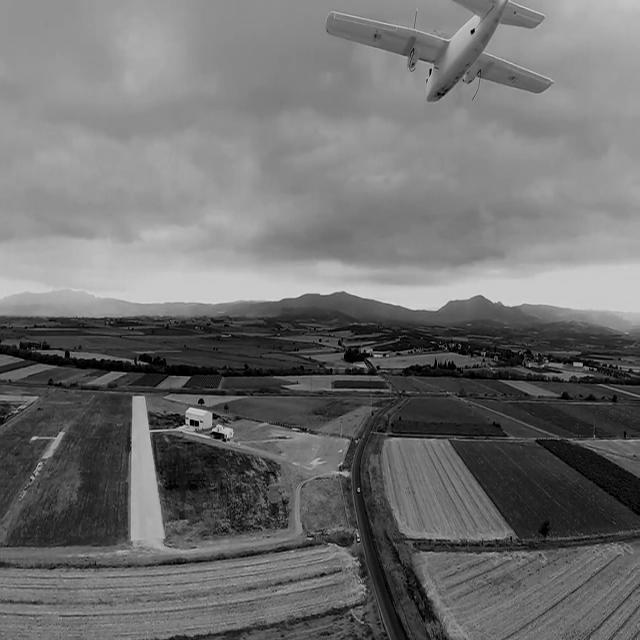iha: (319, 32, 561, 74)
